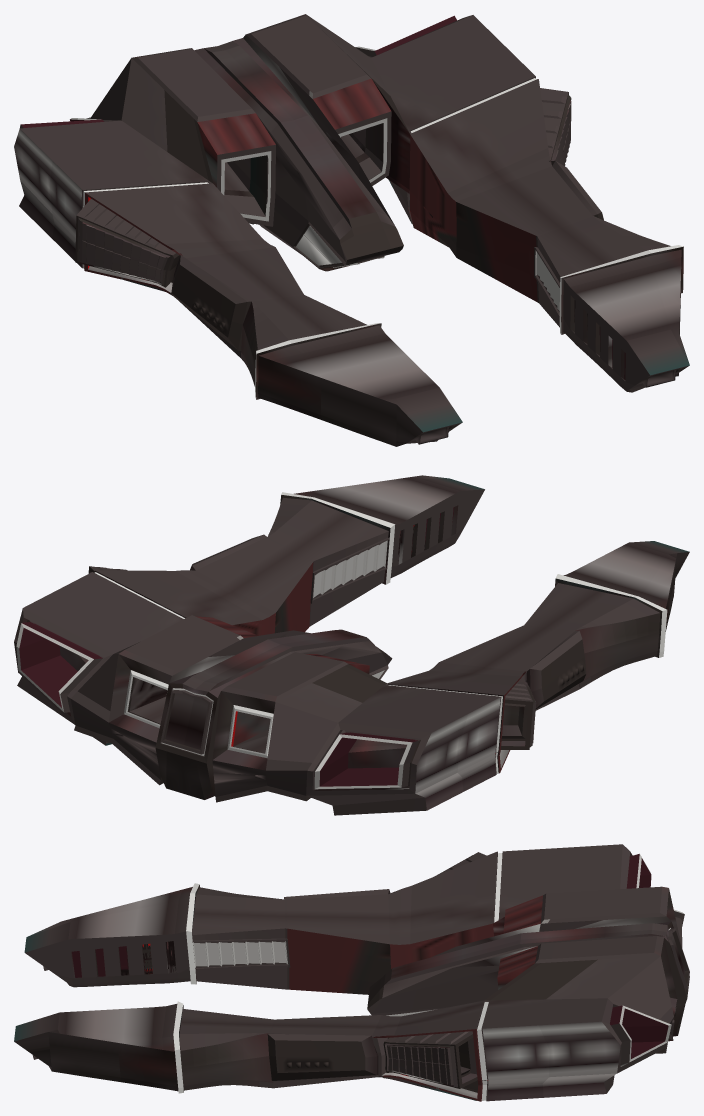
The model's file is Enemy2.obj.
3 renders of one model, top to bottom at view 1: azimuth 30°, elevation 25°; view 2: azimuth 150°, elevation 25°; view 3: azimuth 270°, elevation 25°, orthographic. The views are drawn at different scales.
Visible parts, largest first — view 1: Cube_Cube.001; view 2: Cube_Cube.001; view 3: Cube_Cube.001.
Boxes of the visible parts, x1=… form: Cube_Cube.001: x1=14, y1=14, x2=689, y2=446; Cube_Cube.001: x1=14, y1=475, x2=689, y2=815; Cube_Cube.001: x1=14, y1=844, x2=689, y2=1101.
Bounding box in the file's own units: 61.09 × 18.51 × 84.04.
